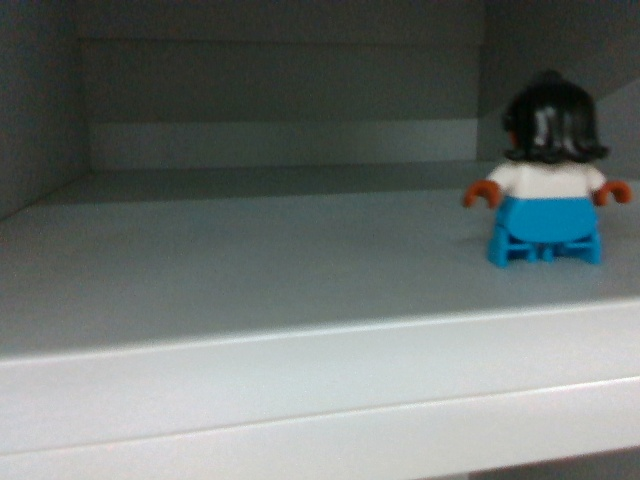people: (467, 71, 632, 273)
